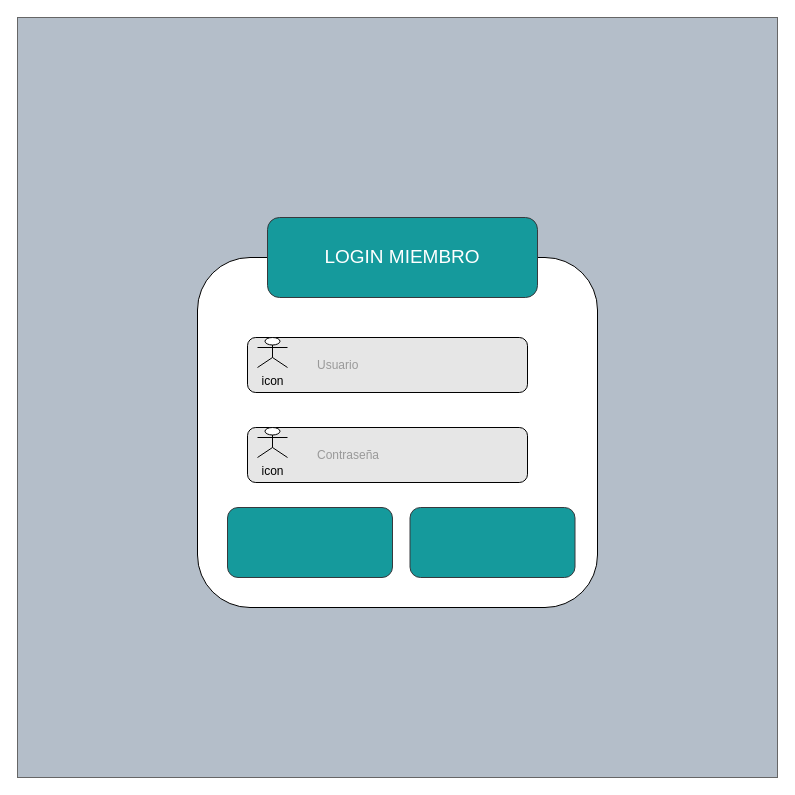
The diagram is 795 pixels wide and 795 high, and some of its shapes have lost their labels. The shapes that lost their labels are listed below. From the top down, each one's centre as x and y in pixels, then its label:
the point at 309,542: LOGIN
the point at 492,542: REGISTRO
